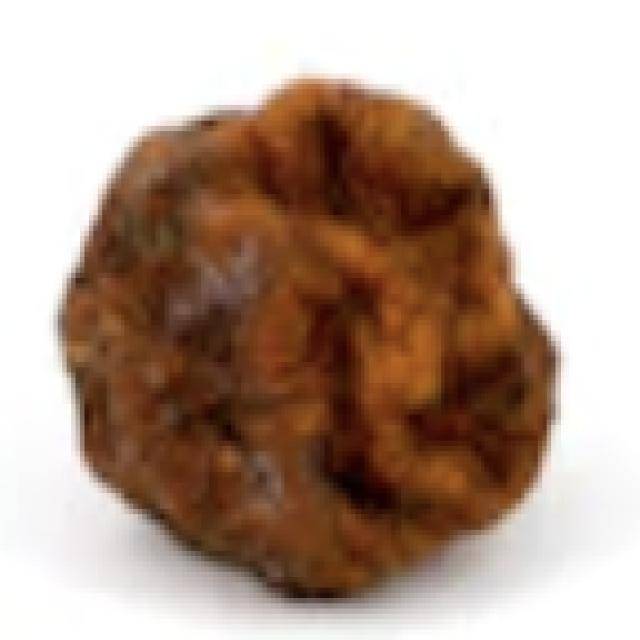sangat-busuk: (59, 77, 553, 597)
